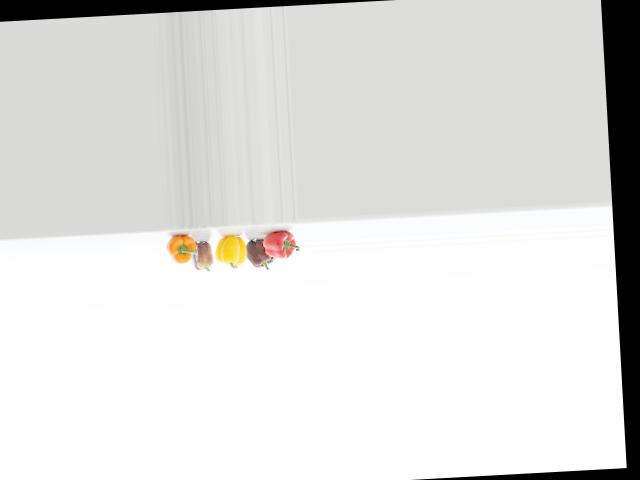bell_pepper: (165, 230, 199, 274)
